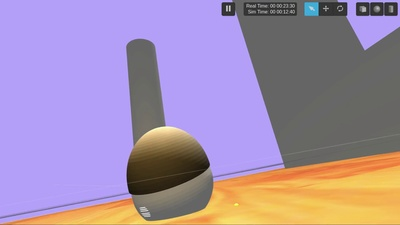mira_robot: (127, 126, 214, 222)
